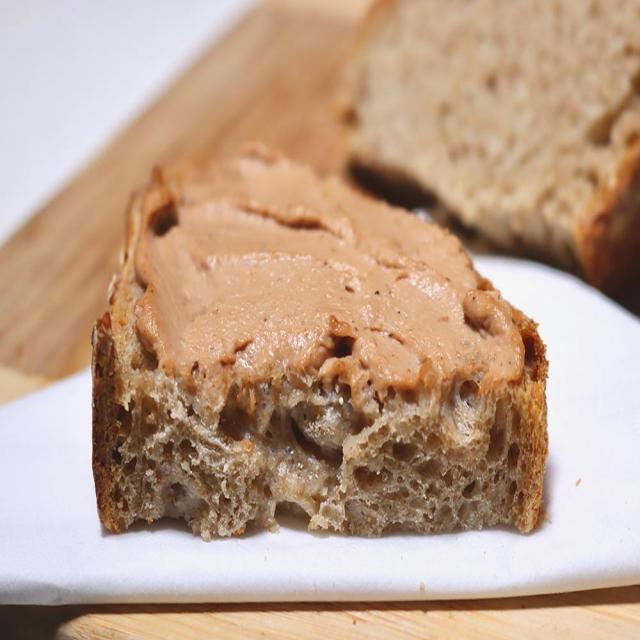Spread: (143, 159, 527, 399)
